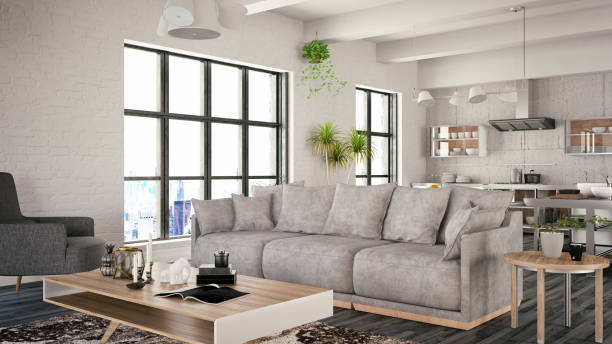chair: (0, 169, 106, 293)
large plant: (309, 122, 372, 184)
side table: (501, 250, 610, 344)
small plant: (538, 216, 570, 258)
sofa: (186, 179, 525, 332)
table: (40, 258, 334, 344)
